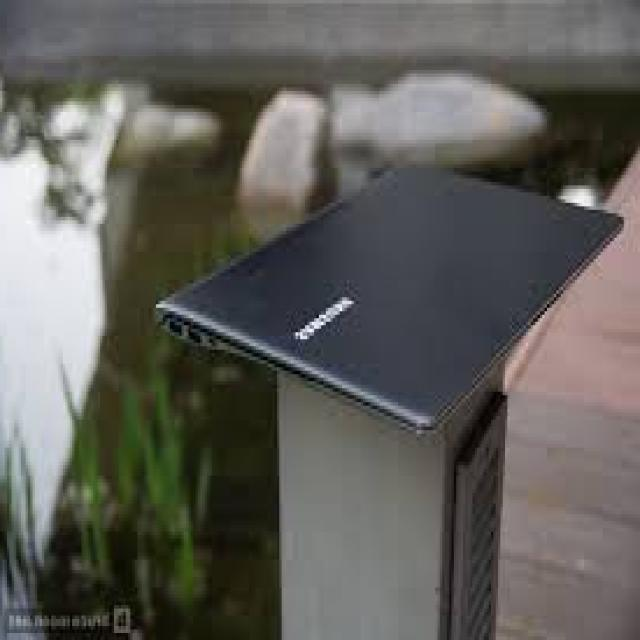laptop: (153, 164, 624, 434)
